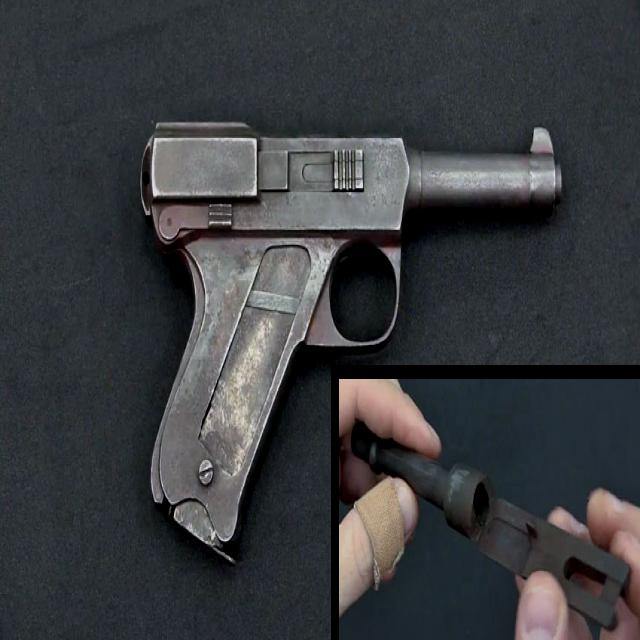handgun: (136, 108, 568, 570)
